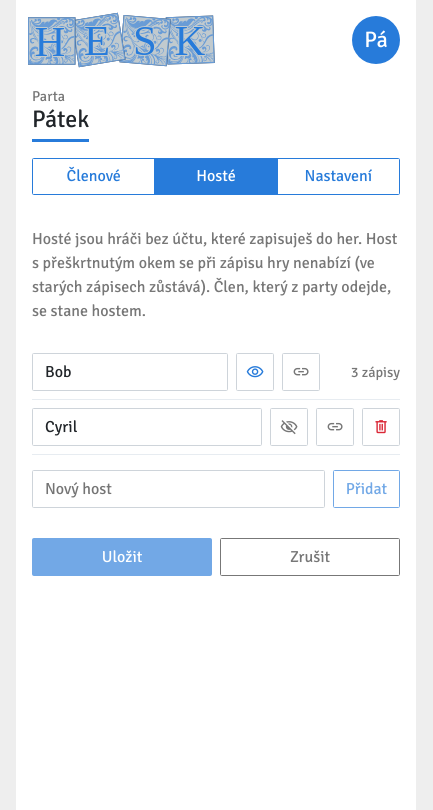
Test case: party guests (/parties/:id/guests) › shows a toast when the server refuses (e.g. a taken name)
Replace the text in the field named "Jméno hosta Bob" with "Cyril" at coordinates (130, 372), box [32, 354, 228, 392]
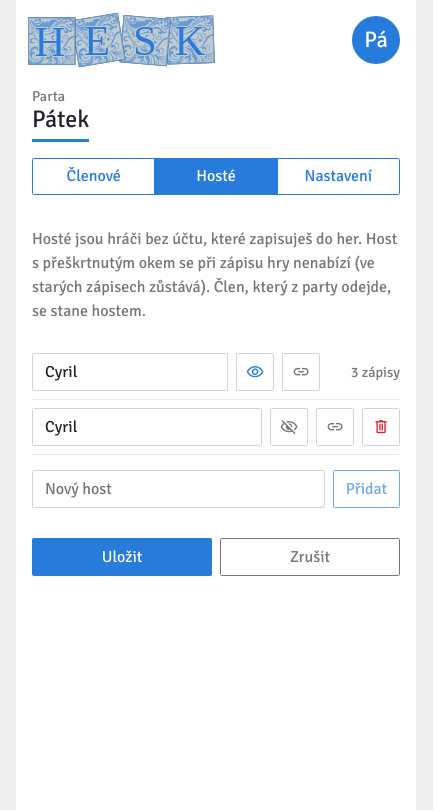
Click the button "Uložit" at coordinates (122, 557), box [32, 538, 212, 576]
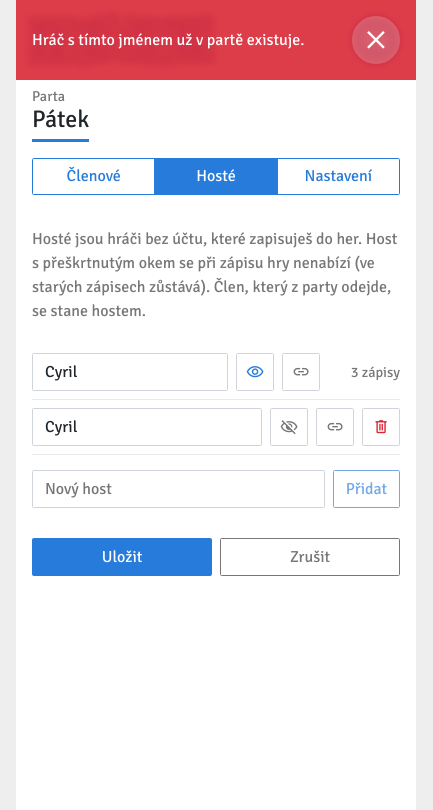
Result: the message reads "Hráč s tímto jménem už v partě existuje." at [32, 30, 304, 50]
